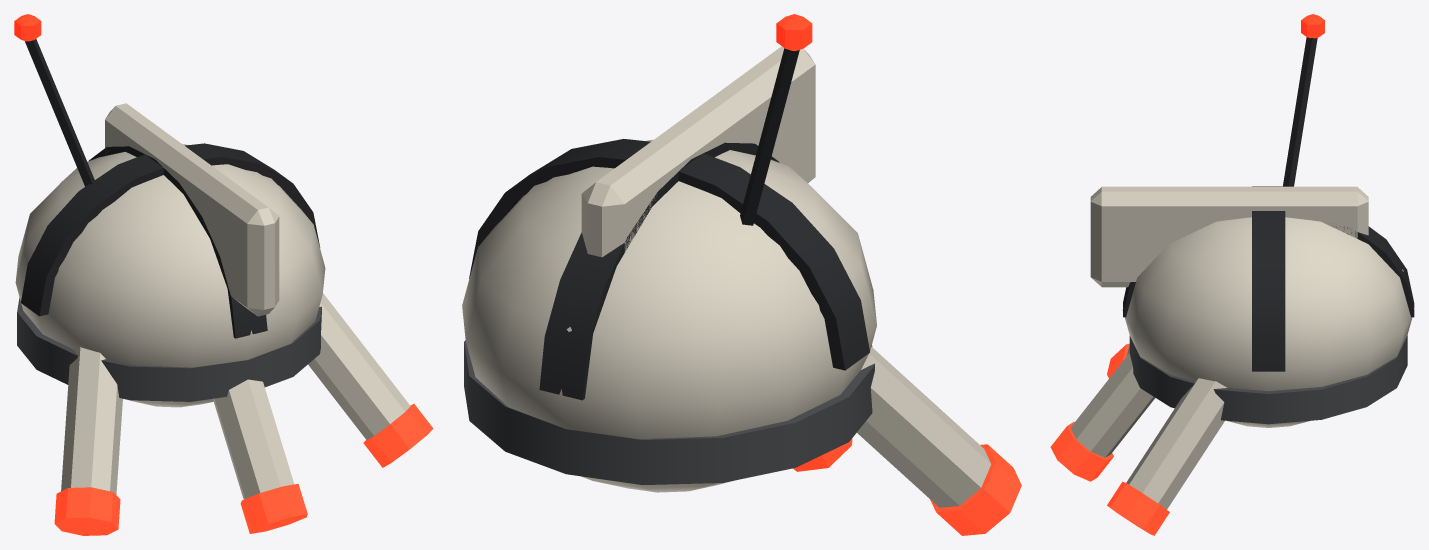
The model's file is logistic-robot.glb.
3 views of the same model, side by side, from view 1: azimuth 30°, elevation 25°; view 2: azimuth 150°, elevation 25°; view 3: azimuth 270°, elevation 25° (orthographic). The views are drawn at different scales.
Parts seen in each view (by area): view 1: body, anim_thrusters, anim_lamp_cargo; view 2: body, anim_thrusters, anim_lamp_cargo; view 3: body, anim_thrusters, anim_lamp_cargo.
Part boxes in pixels (x1,y1,x2,y2): body: (15,39,325,407); anim_thrusters: (54,293,433,535); anim_lamp_cargo: (14,14,41,41); body: (462,46,876,492); anim_thrusters: (793,347,1021,535); anim_lamp_cargo: (776,14,812,50); body: (1090,37,1414,427); anim_thrusters: (1050,343,1227,535); anim_lamp_cargo: (1301,14,1324,38).
Size of the model in its own units: 0.8636 by 1.02 by 0.8185.
